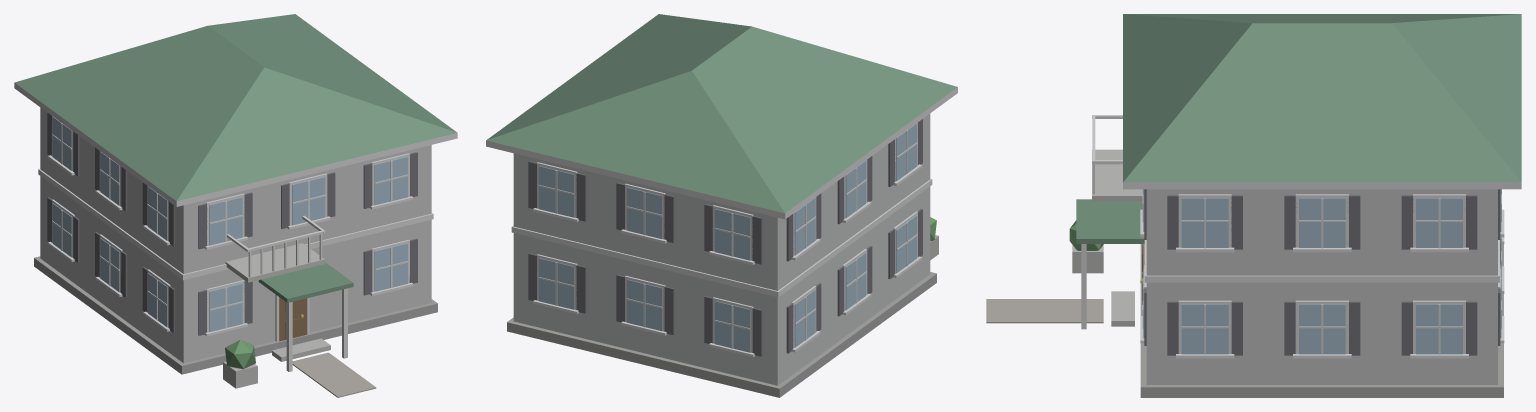
File: Villa_13.glb
The picture shows the model from 3 angles, left to right: view 1: azimuth 30°, elevation 25°; view 2: azimuth 150°, elevation 25°; view 3: azimuth 270°, elevation 25°; orthographic projection. The views are drawn at different scales.
Parts seen in each view (by area): view 1: Villa_13; view 2: Villa_13; view 3: Villa_13.
Boxes of the visible parts, left/top/right/bottom form: Villa_13: left=14, top=14, right=457, bottom=397; Villa_13: left=486, top=14, right=957, bottom=397; Villa_13: left=986, top=14, right=1521, bottom=397.
Bounding box in the file's own units: 10.2 × 8.42 × 13.7.
